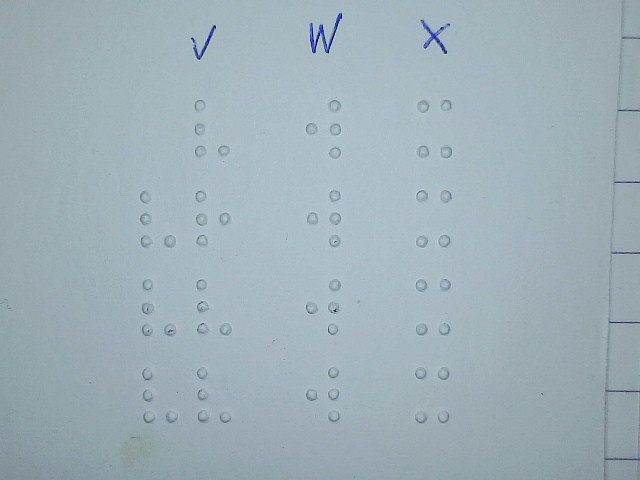V: (193, 97, 232, 159), (139, 188, 178, 250), (195, 363, 234, 425), (141, 364, 180, 426)
W: (304, 97, 343, 159), (305, 187, 344, 249), (304, 275, 343, 337), (303, 363, 342, 425)
X: (415, 97, 454, 159), (414, 187, 453, 249), (414, 275, 453, 337), (413, 364, 452, 426)
